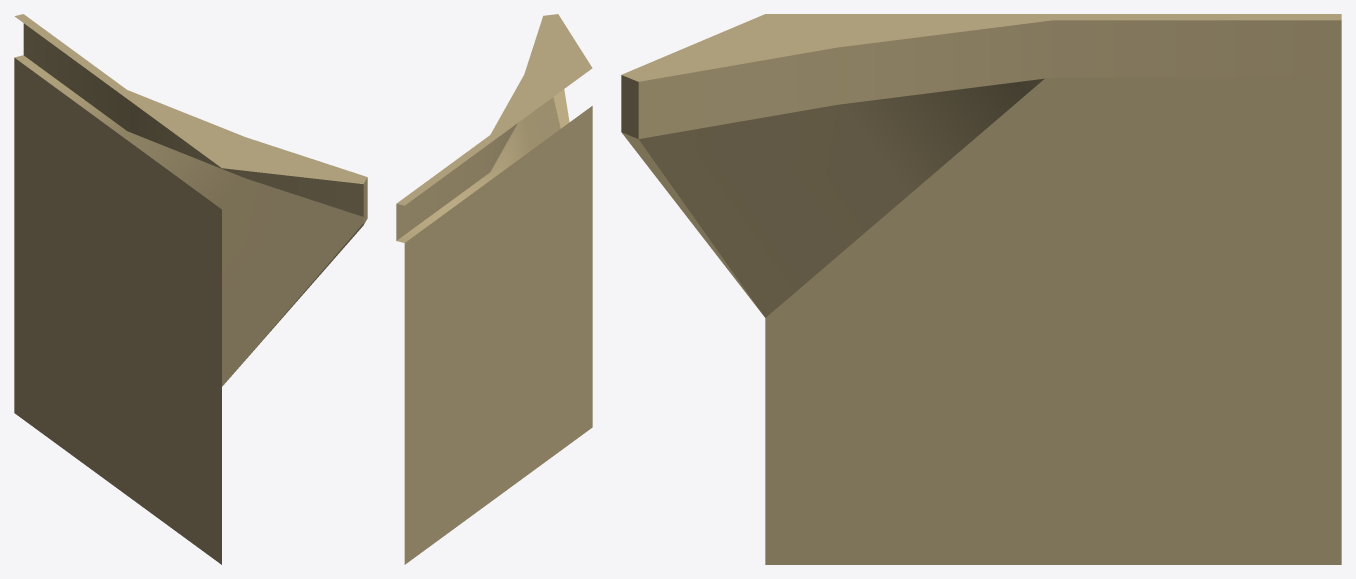
File: Roof_1_2.fbx
The picture shows the model from 3 angles, left to right: view 1: azimuth 30°, elevation 25°; view 2: azimuth 150°, elevation 25°; view 3: azimuth 270°, elevation 25°; orthographic projection. The views are drawn at different scales.
Visible parts, largest first — view 1: Roof_1_2; view 2: Roof_1_2; view 3: Roof_1_2.
Part boxes in pixels (box(x1,y1,x2,y2)): Roof_1_2: box(14, 14, 367, 564); Roof_1_2: box(396, 14, 592, 564); Roof_1_2: box(621, 14, 1341, 564).
Bounding box in the file's own units: 1.12 × 4.22 × 5.
